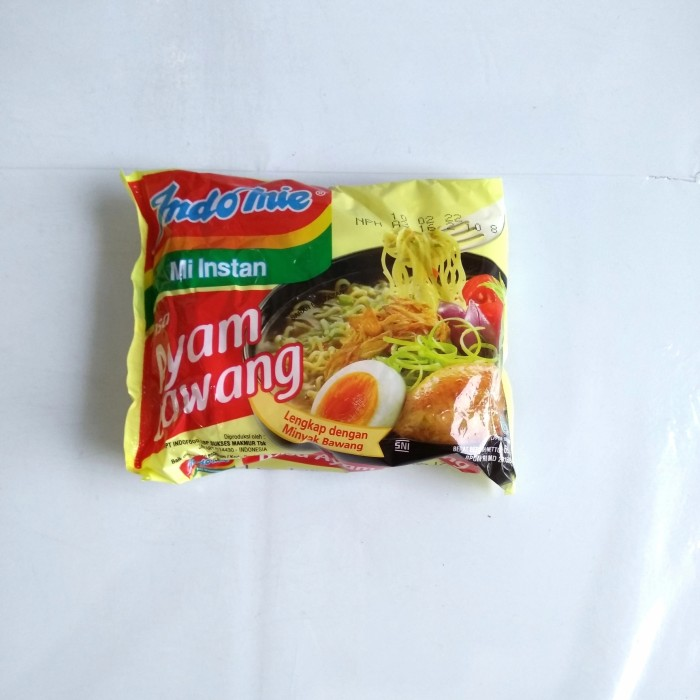Indomie Ayam Bawang (69g): (120, 161, 516, 496)
